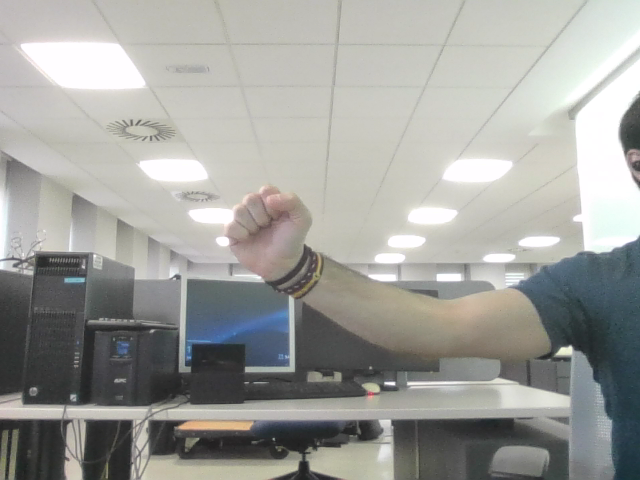Puño: (229, 193, 298, 241)
